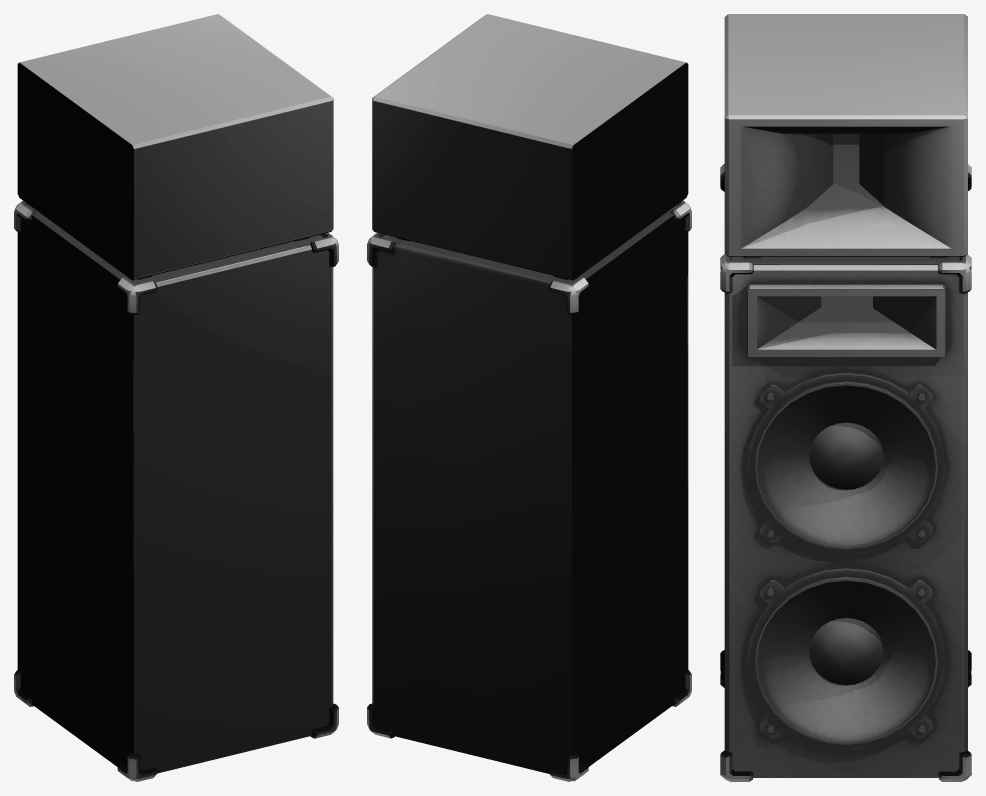
The model's file is big speaker.fbx.
3 views of the same model, side by side, from view 1: azimuth 30°, elevation 25°; view 2: azimuth 150°, elevation 25°; view 3: azimuth 270°, elevation 25° (orthographic). The views are drawn at different scales.
Parts seen in each view (by area): view 1: Cube; view 2: Cube; view 3: Cube.
Part boxes in pixels (box(x1,y1,x2,y2)): Cube: box(14, 14, 338, 781); Cube: box(367, 14, 691, 781); Cube: box(720, 14, 971, 781).
Size of the model in its own units: 342 by 972 by 332.
